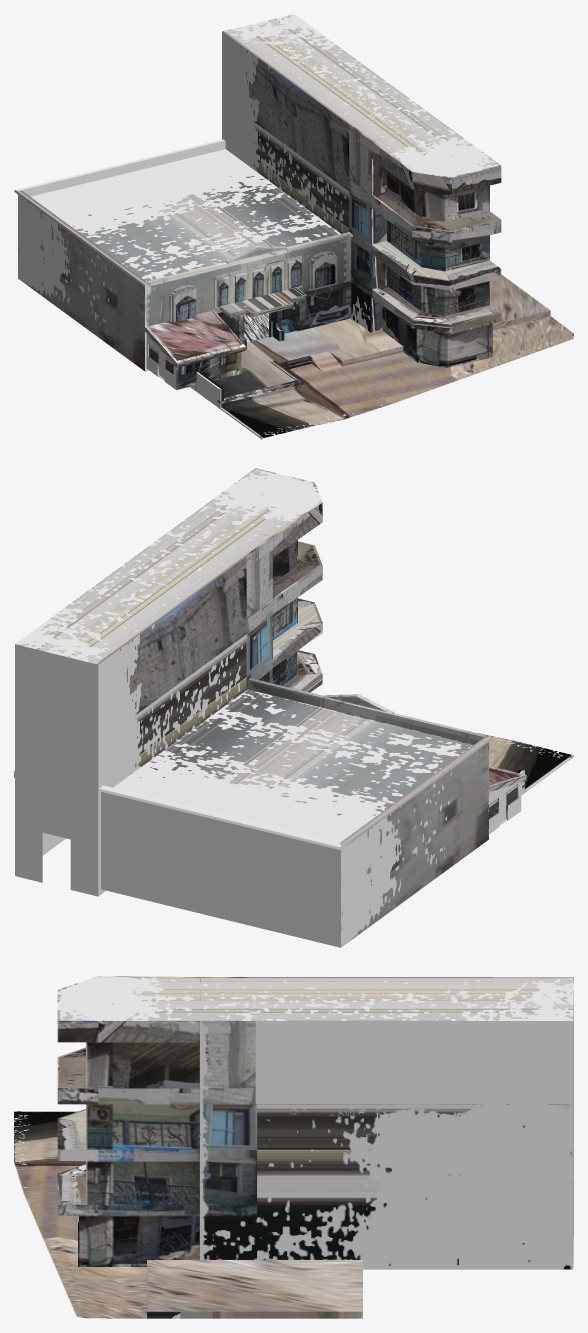
File: hospital.fbx
3 renders of one model, top to bottom at view 1: azimuth 30°, elevation 25°; view 2: azimuth 150°, elevation 25°; view 3: azimuth 270°, elevation 25°, orthographic. The views are drawn at different scales.
Parts seen in each view (by area): view 1: Hospital_exterior; view 2: Hospital_exterior; view 3: Hospital_exterior.
Boxes of the visible parts, x1,y1,x2,y2 form: Hospital_exterior: (14,14,573,439); Hospital_exterior: (14,468,573,947); Hospital_exterior: (14,976,573,1318).
Bounding box in the file's own units: 14478 × 7551 × 15417.
